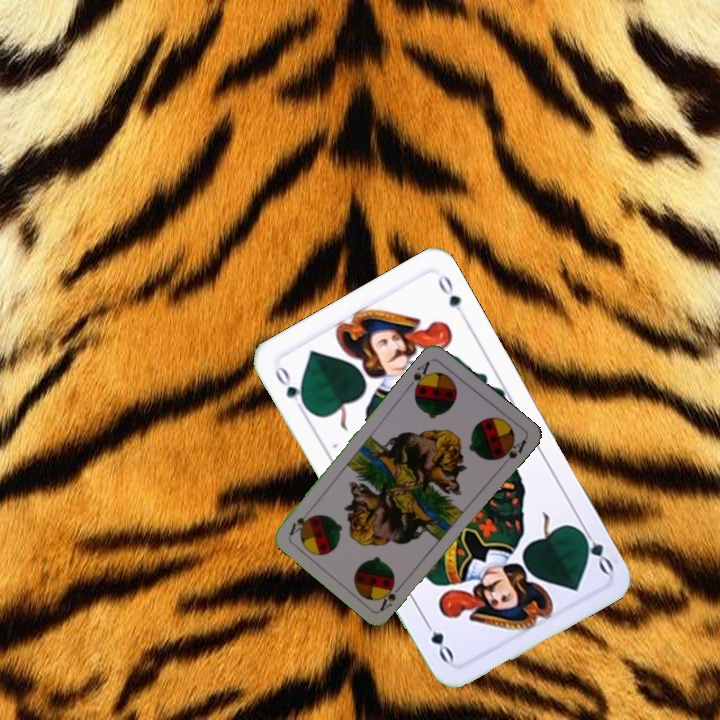GO: (574, 521, 617, 577), (270, 361, 311, 416)
SA: (404, 357, 434, 395), (376, 578, 406, 613)
